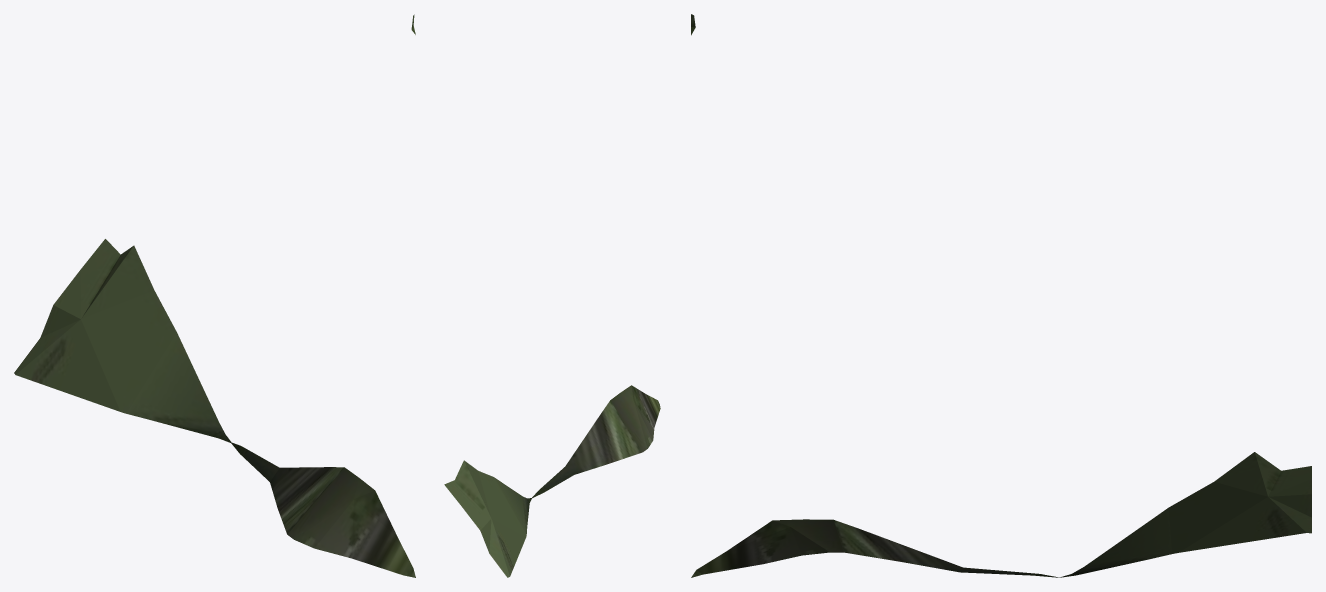
The picture shows the model from 3 angles, left to right: view 1: azimuth 30°, elevation 25°; view 2: azimuth 150°, elevation 25°; view 3: azimuth 270°, elevation 25°; orthographic projection. The views are drawn at different scales.
Bounding box in the file's own units: 0.5071 × 2.95 × 2.95.
1 material, 1 textured.
